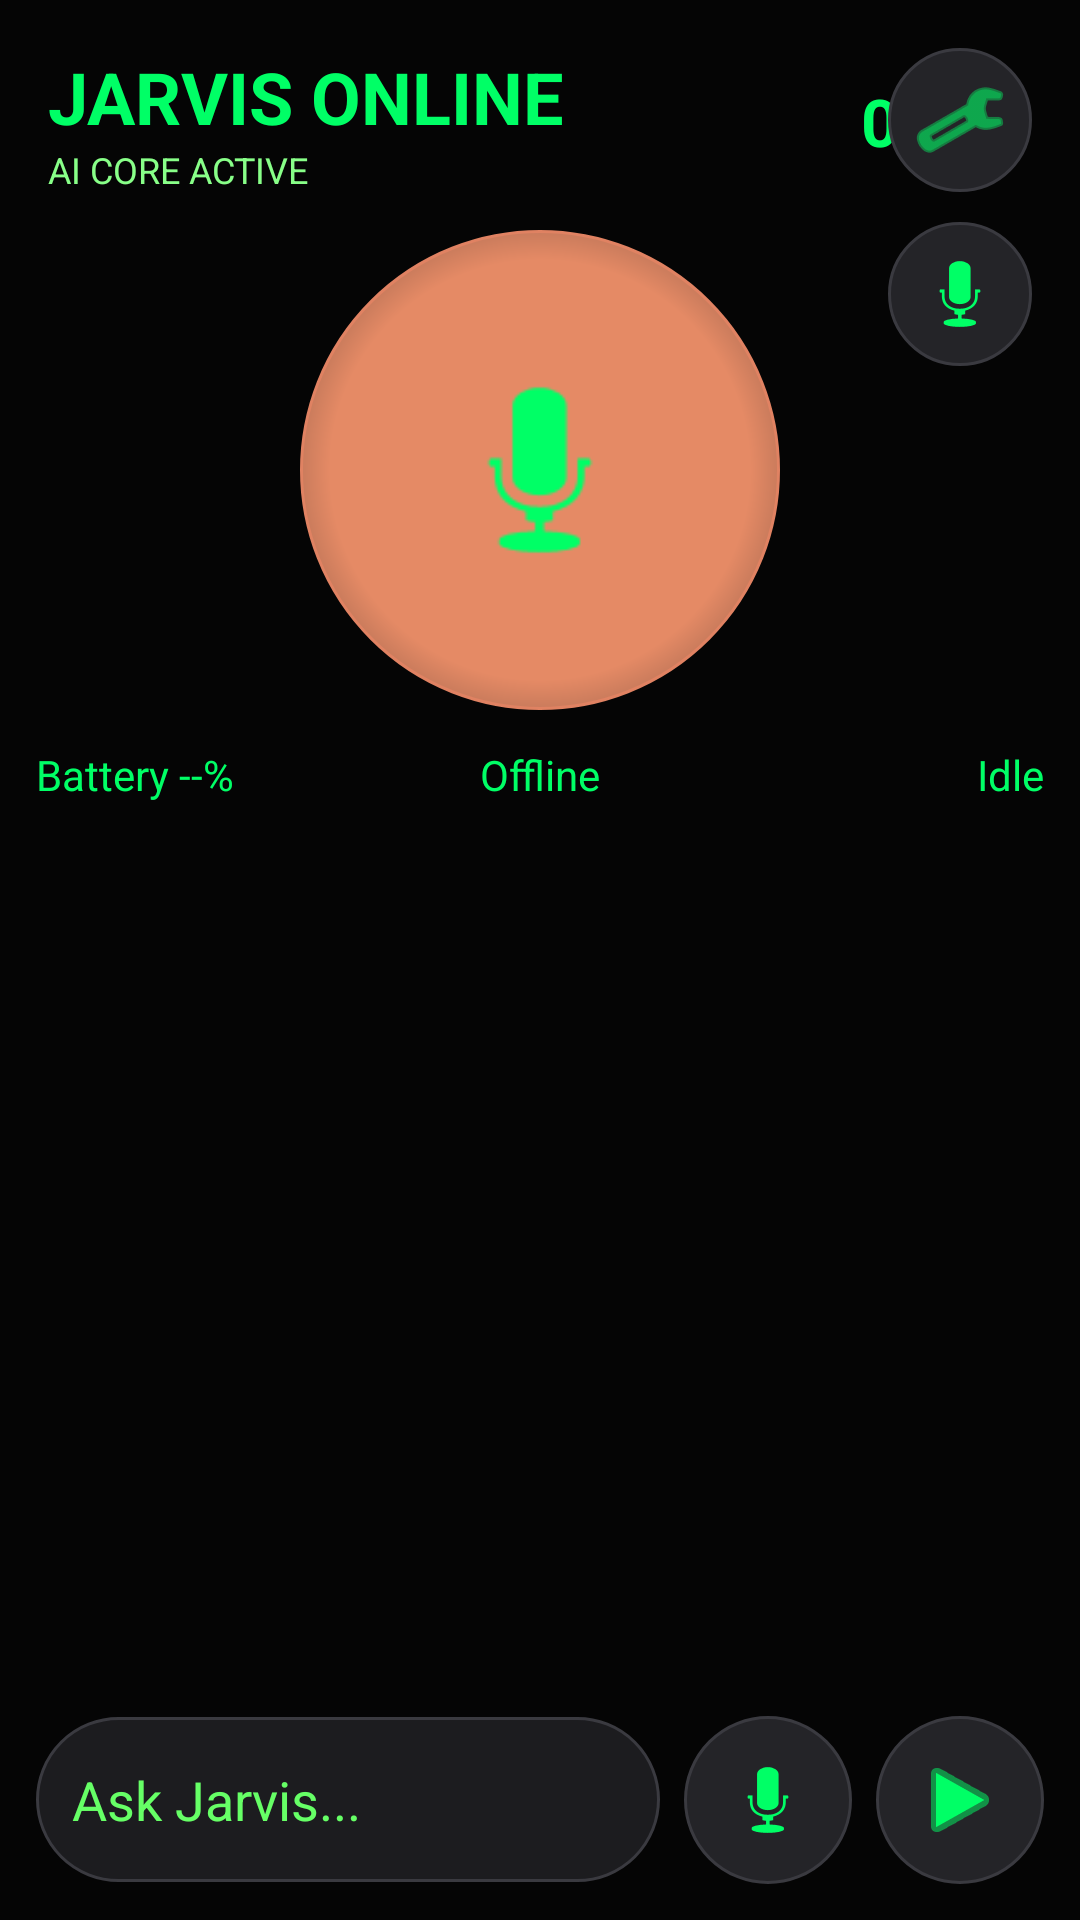

Icons on this 1080px×1920px Android screen, each with the point to tap as [x,y]:
manage: [960,120]
play: [960,1800]
speak now: [960,294], [540,470], [768,1800]
